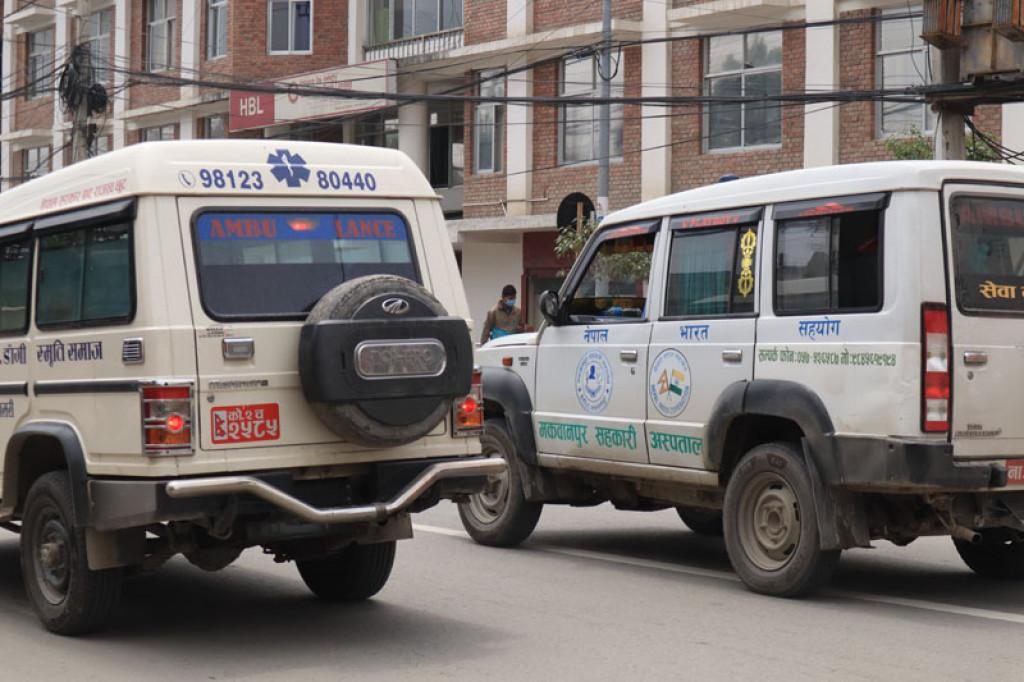ambulance: (447, 134, 1024, 597), (0, 128, 494, 654)
